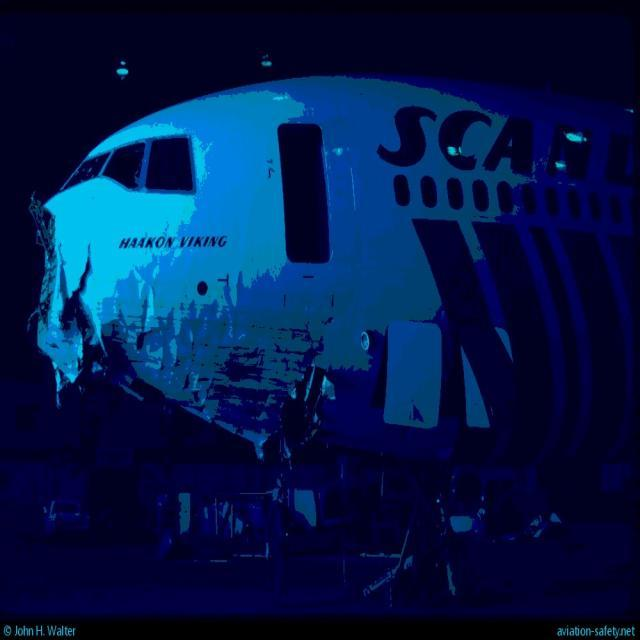crack: (29, 198, 105, 403), (257, 361, 337, 471)
